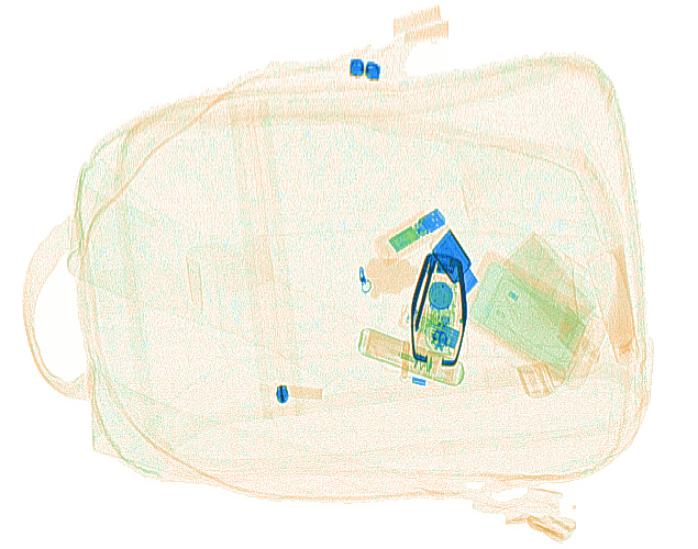USBFlashDisk: (429, 226, 475, 296), (387, 205, 446, 252)
